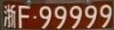F: (19, 6, 30, 28)
